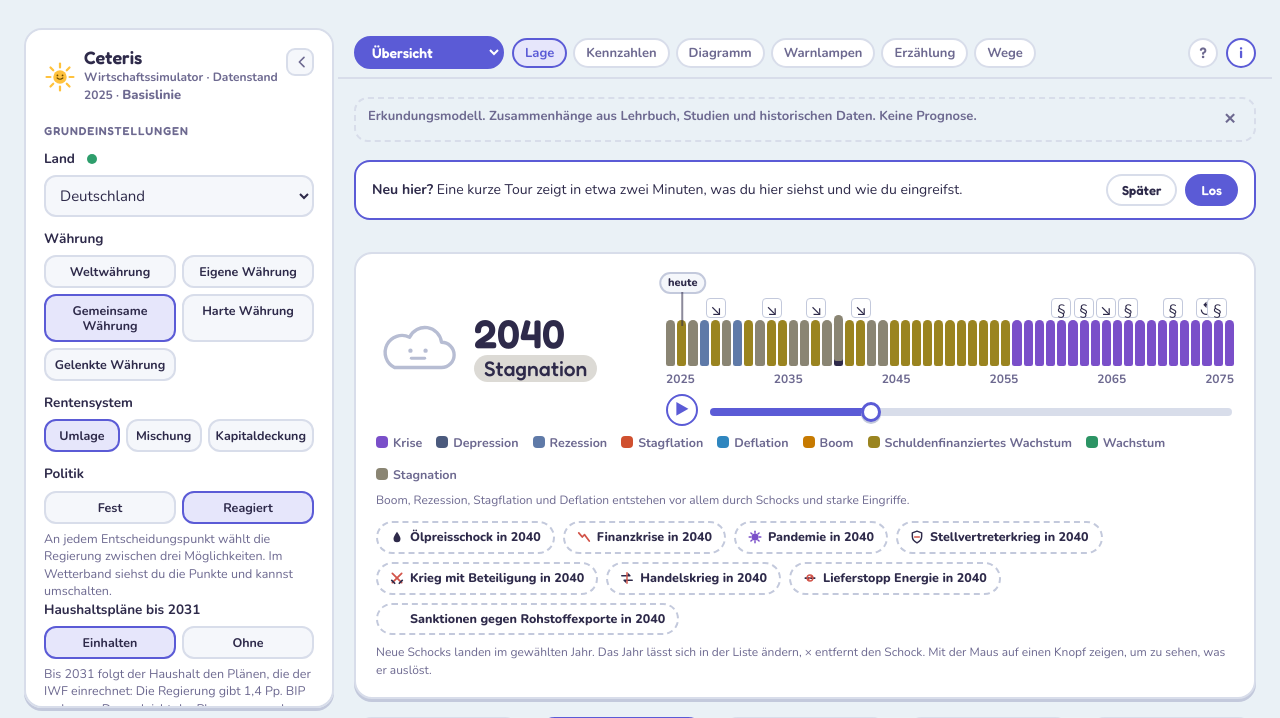
Bewegung › Zeitraffer fährt durch die Jahre und hält am Ende
The image size is (1280, 718).
Step 1. Click the button named "Zeitraffer starten" → coordinates (682, 410), box [666,394,698,426]
Wait 12000 ms
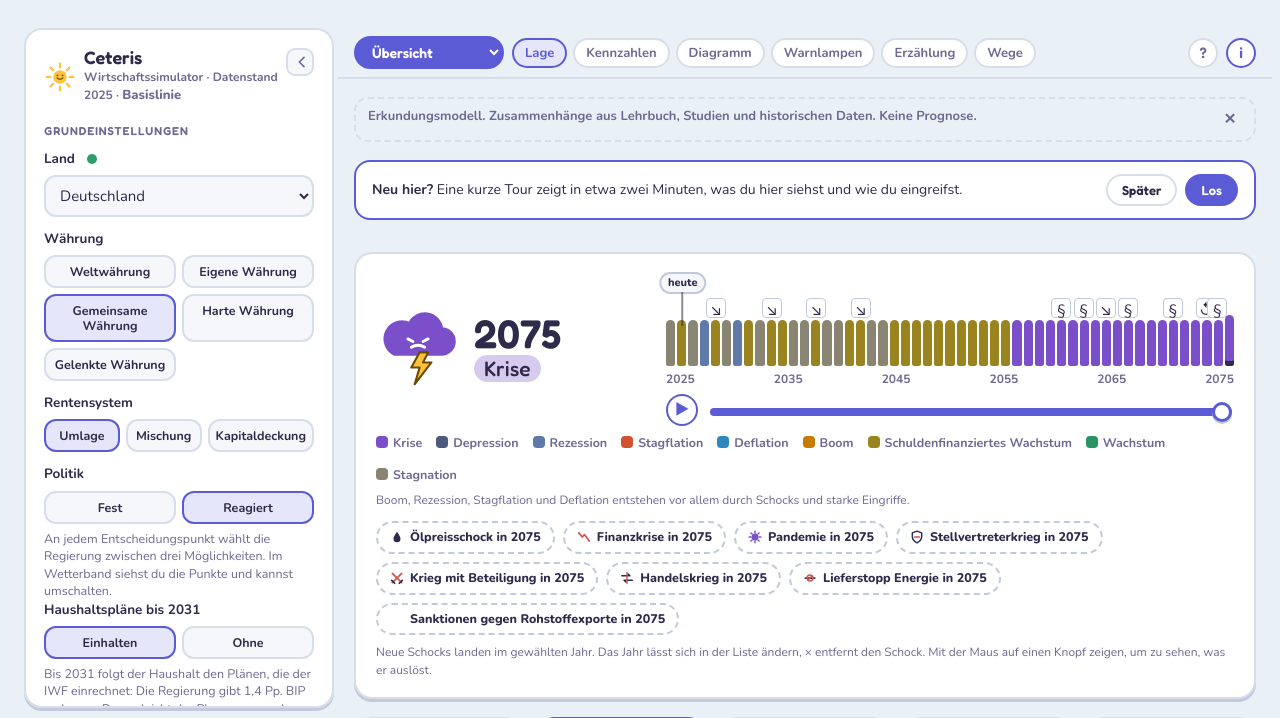
Check: the text named "Gewähltes Jahr" reads "2075", box [474,309,561,357]
